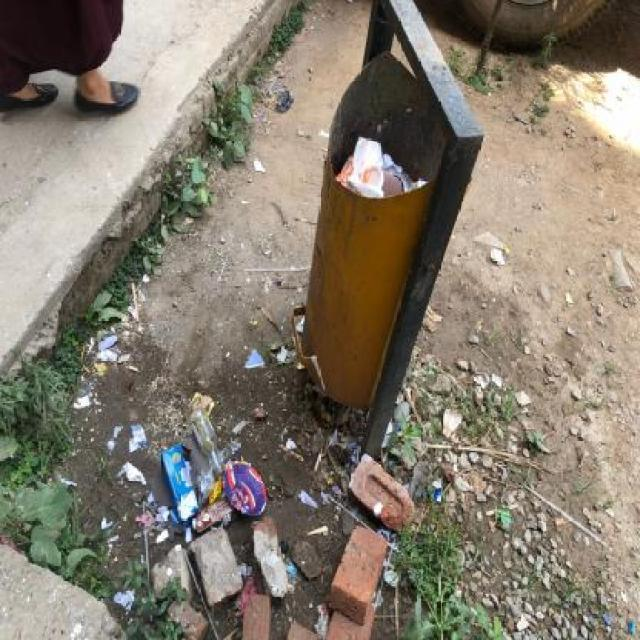garbage: (321, 423, 640, 639), (108, 409, 314, 639), (397, 313, 581, 413), (337, 117, 420, 191), (74, 318, 138, 410), (468, 231, 514, 274), (274, 85, 302, 114), (243, 157, 274, 177)
